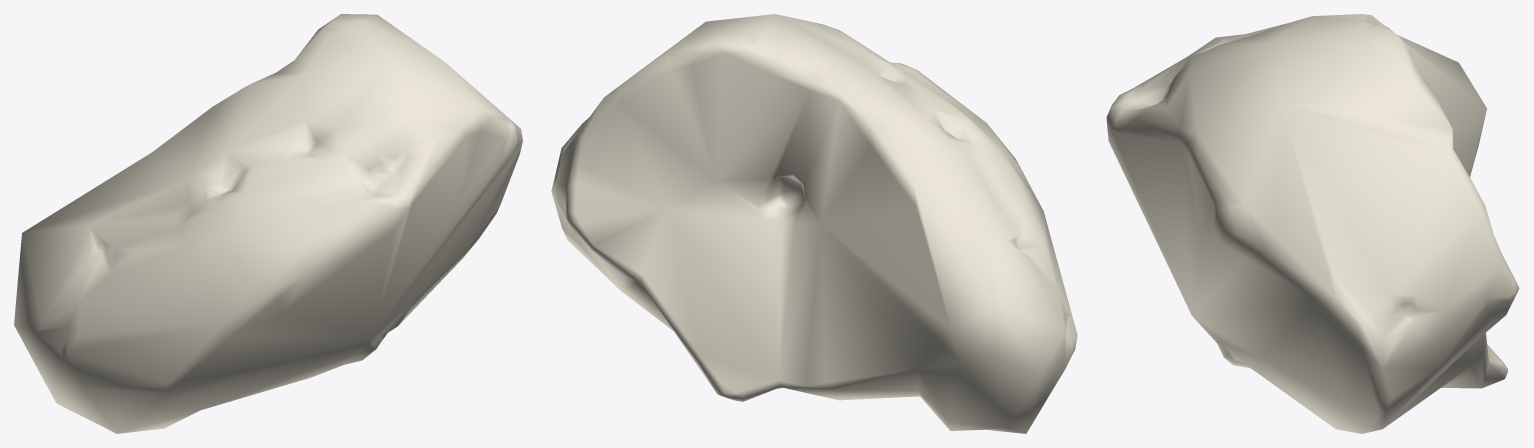
The picture shows the model from 3 angles, left to right: view 1: azimuth 30°, elevation 25°; view 2: azimuth 150°, elevation 25°; view 3: azimuth 270°, elevation 25°; orthographic projection. The views are drawn at different scales.
Visible parts, largest first — view 1: ZA_c116f05960d0050d; view 2: ZA_c116f05960d0050d; view 3: ZA_c116f05960d0050d.
Boxes of the visible parts, x1,y1,x2,y2 form: ZA_c116f05960d0050d: (14, 14, 522, 433); ZA_c116f05960d0050d: (551, 14, 1077, 433); ZA_c116f05960d0050d: (1106, 14, 1519, 433).
Size of the model in its own units: 0.0407 by 0.0275 by 0.024.
